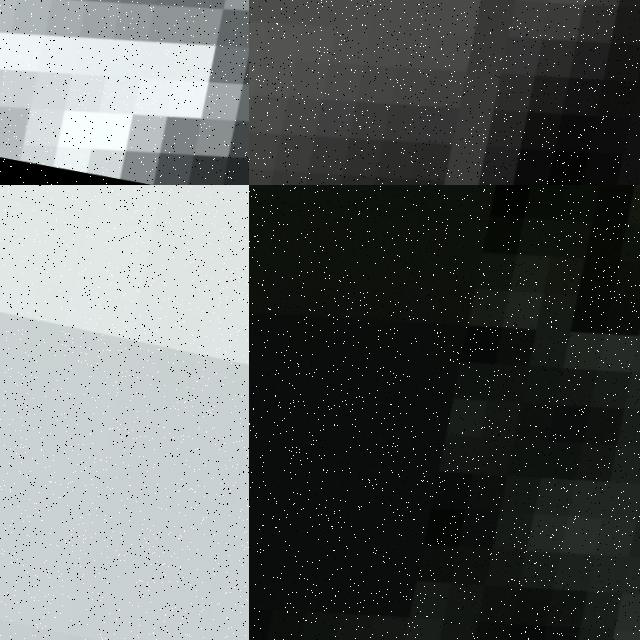drone: (249, 185, 640, 640), (249, 0, 640, 185), (0, 0, 249, 185)
